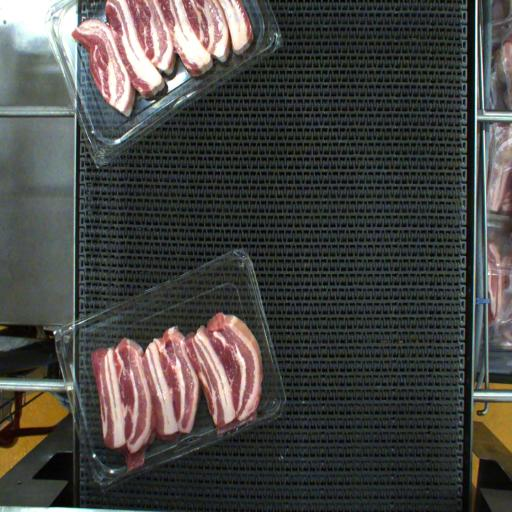packaging-error: (201, 402, 294, 440), (120, 444, 158, 485)
